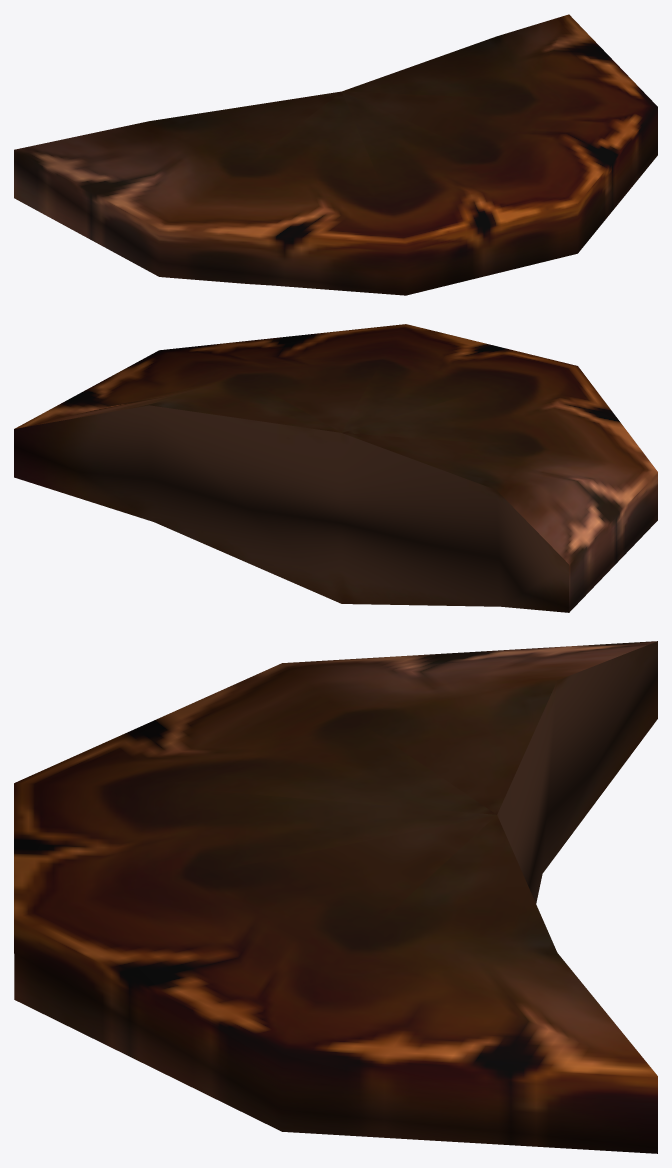
The model's file is Mushroom03.fbx.
3 views of the same model, one above another, from view 1: azimuth 30°, elevation 25°; view 2: azimuth 150°, elevation 25°; view 3: azimuth 270°, elevation 25° (orthographic). The views are drawn at different scales.
Visible parts, largest first — view 1: Mushroom03; view 2: Mushroom03; view 3: Mushroom03.
Boxes of the visible parts, x1=… form: Mushroom03: x1=14, y1=14, x2=657, y2=295; Mushroom03: x1=14, y1=324, x2=657, y2=612; Mushroom03: x1=14, y1=641, x2=657, y2=1153.
Size of the model in its own units: 0.9519 by 0.2802 by 0.5954.
